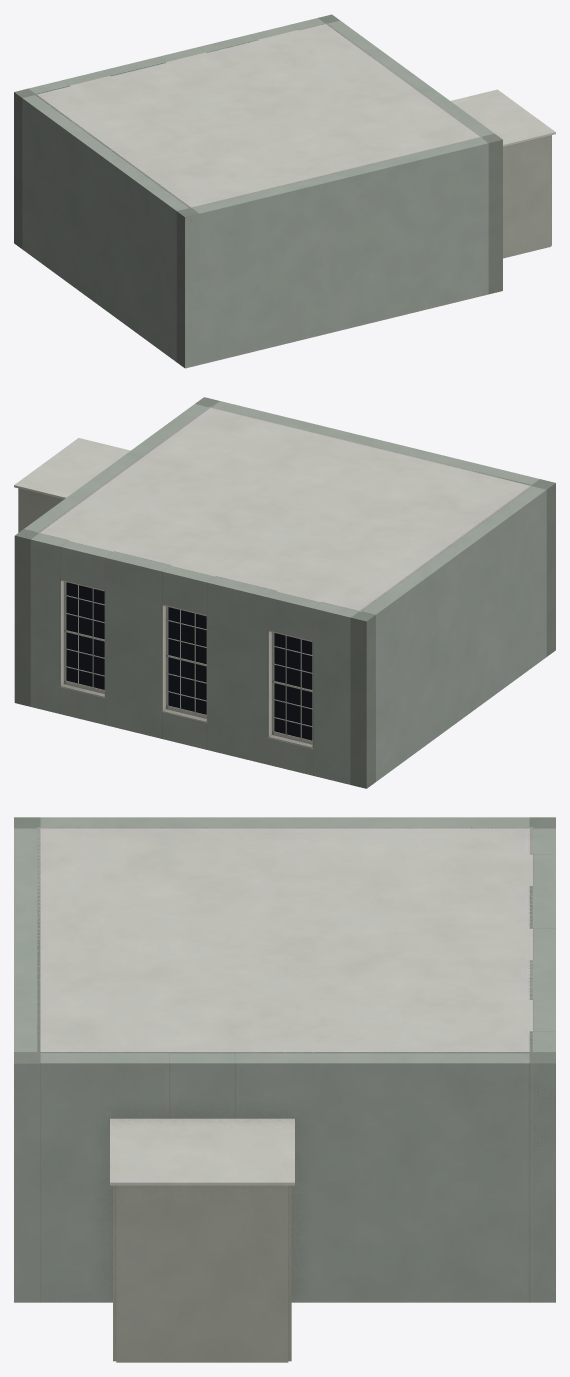
File: netherfield_drawing_room.gltf
3 views of the same model, one above another, from view 1: azimuth 30°, elevation 25°; view 2: azimuth 150°, elevation 25°; view 3: azimuth 270°, elevation 25° (orthographic). The views are drawn at different scales.
Visible parts, largest first — view 1: MESH_WallPaint, MESH_Ceiling, MESH_DadoPaint; view 2: MESH_WallPaint, MESH_Ceiling, WindowGlass_night, MESH_Joinery, MESH_DadoPaint; view 3: MESH_Ceiling, MESH_WallPaint, MESH_DadoPaint.
Part boxes in pixels (left/top/right/bottom): MESH_WallPaint: left=14, top=14, right=502, bottom=368; MESH_Ceiling: left=37, top=23, right=555, bottom=208; MESH_DadoPaint: left=503, top=135, right=551, bottom=258; MESH_WallPaint: left=14, top=397, right=555, bottom=788; MESH_Ceiling: left=14, top=406, right=532, bottom=611; WindowGlass_night: left=66, top=582, right=312, bottom=740; MESH_Joinery: left=59, top=579, right=314, bottom=749; MESH_DadoPaint: left=18, top=488, right=63, bottom=532; MESH_Ceiling: left=37, top=827, right=532, bottom=1185; MESH_WallPaint: left=14, top=817, right=555, bottom=1302; MESH_DadoPaint: left=113, top=1185, right=291, bottom=1362.
Size of the model in its own units: 11.1 by 4 by 8.2.
30 materials, 30 textured.
